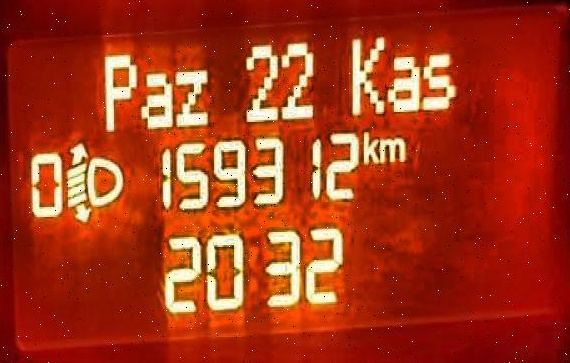0: (204, 232, 244, 312), (28, 150, 64, 218)
1: (306, 135, 322, 198), (157, 145, 172, 208)
2: (301, 225, 345, 303), (161, 233, 201, 315), (277, 38, 315, 118), (243, 40, 279, 121), (324, 130, 358, 200)
3: (262, 227, 301, 308), (249, 133, 285, 207)
5: (172, 140, 210, 210)
9: (210, 137, 247, 208)
X: (347, 33, 385, 117), (101, 50, 137, 131), (171, 68, 210, 127), (419, 50, 456, 111), (139, 68, 173, 130), (386, 53, 420, 113), (379, 135, 406, 163), (360, 128, 377, 165)
